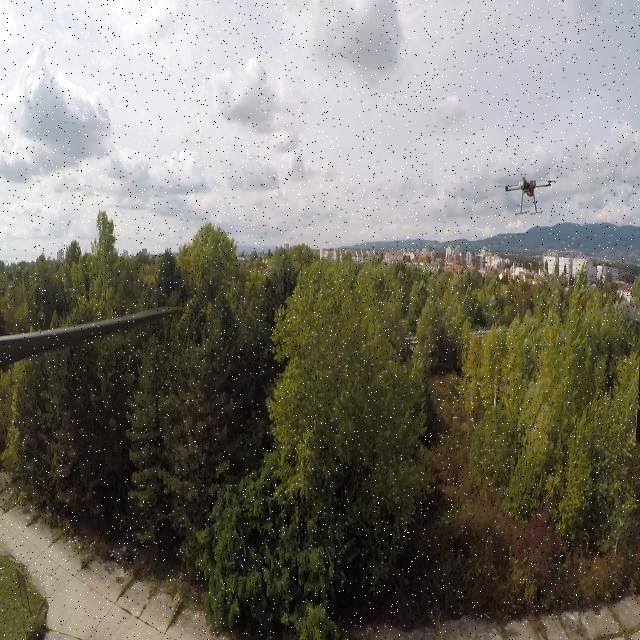UAV: (494, 170, 564, 218)
